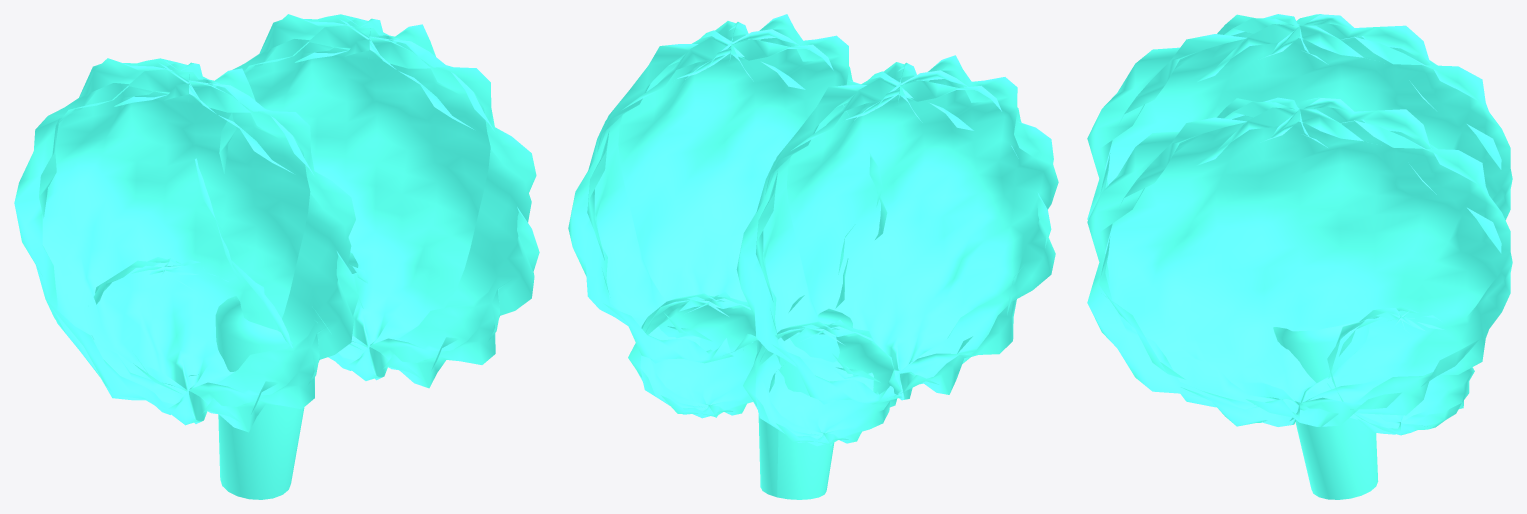
File: brain.glb
The picture shows the model from 3 angles, left to right: view 1: azimuth 30°, elevation 25°; view 2: azimuth 150°, elevation 25°; view 3: azimuth 270°, elevation 25°; orthographic projection. The views are drawn at different scales.
Visible parts, largest first — view 1: Brain; view 2: Brain; view 3: Brain.
Part boxes in pixels (<box>): Brain: <box>14,14,539,499</box>; Brain: <box>568,14,1058,499</box>; Brain: <box>1087,14,1512,499</box>.
Bounding box in the file's own units: 2.07 × 2.1 × 1.89.
